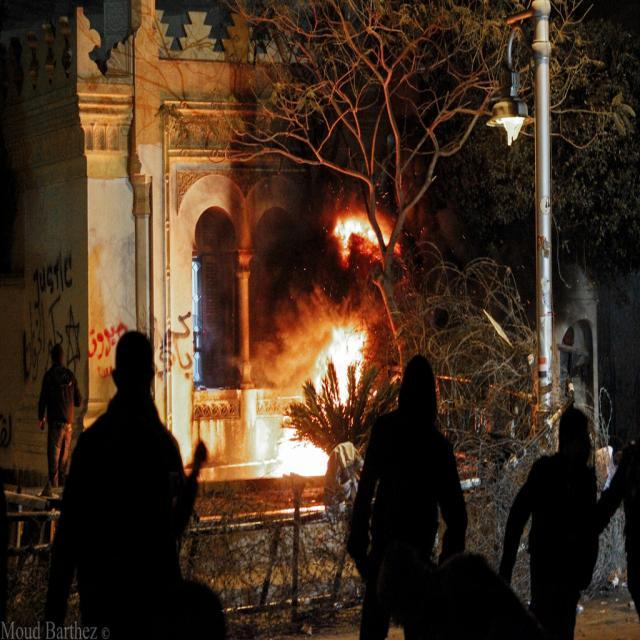Fire: (287, 309, 372, 411), (332, 218, 406, 254)
